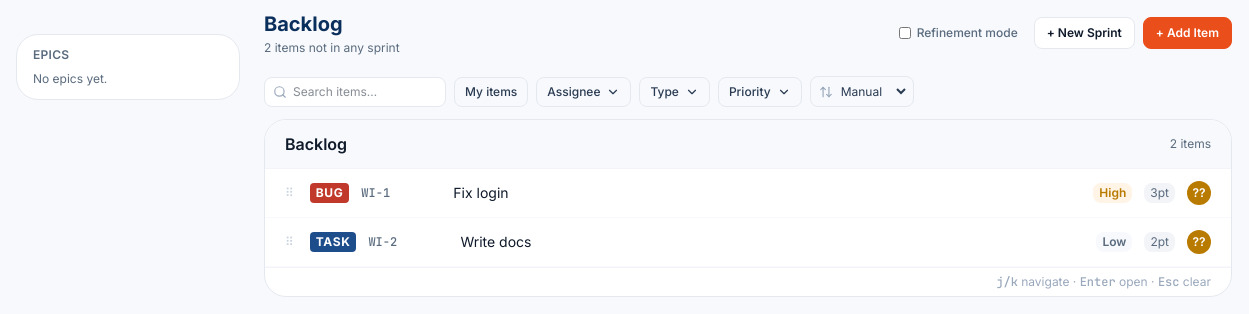
BacklogView › shows a no-matches message when filters exclude everything
Type "zzz-nope" into the search field labelled "Search items…".
click(365, 92); type("zzz-nope")  # box [293,78,437,106]
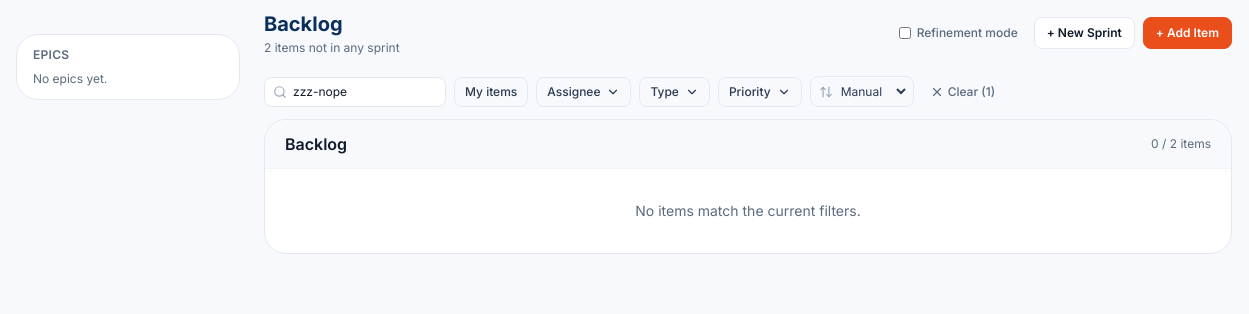
Now the text "No items match the current filters." is shown, box [635,202,861,219]
